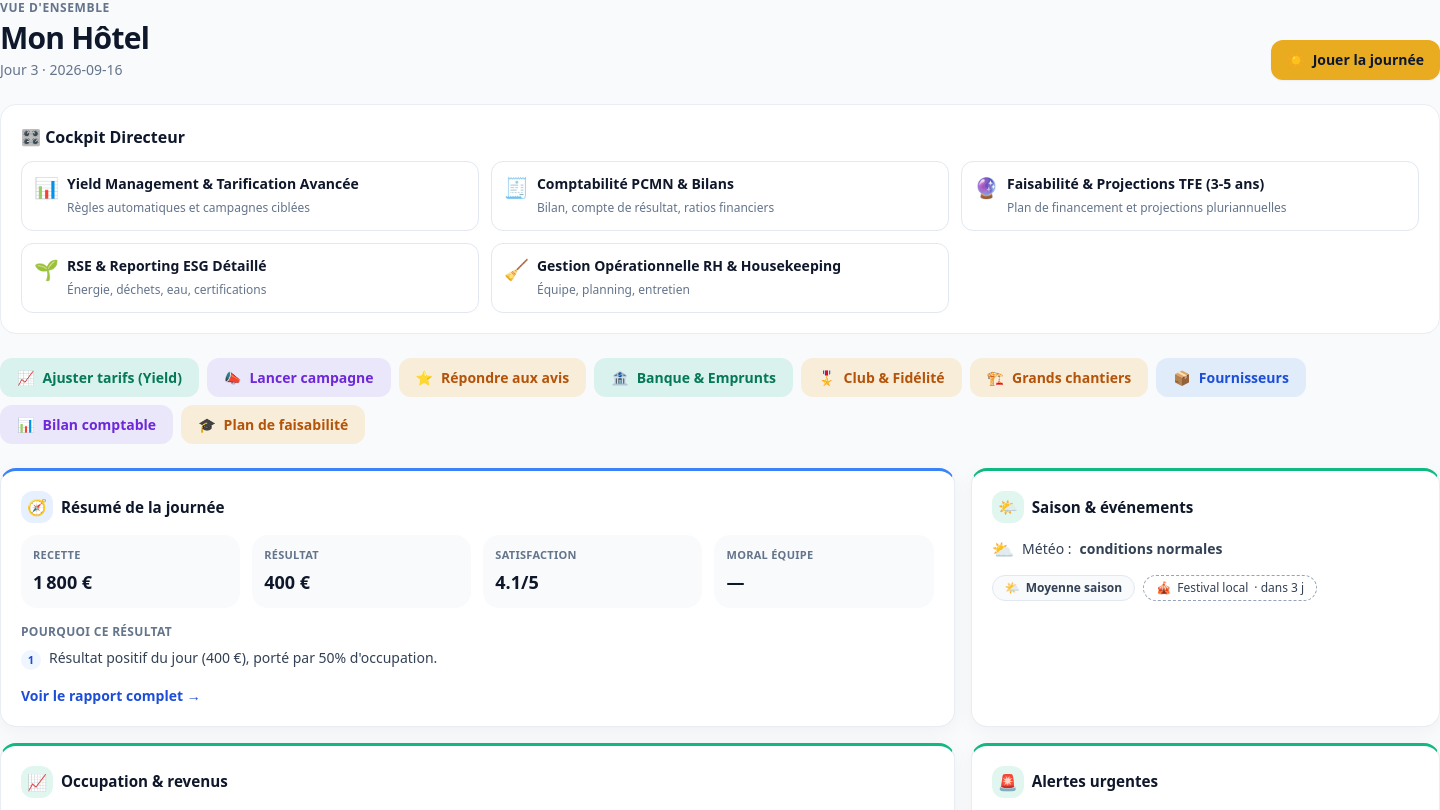
Test case: Dashboard / accounting desk › opens the desk from there
Click the button with test id "quick-accounting" at {"x": 87, "y": 424}, box [0,405,173,444]
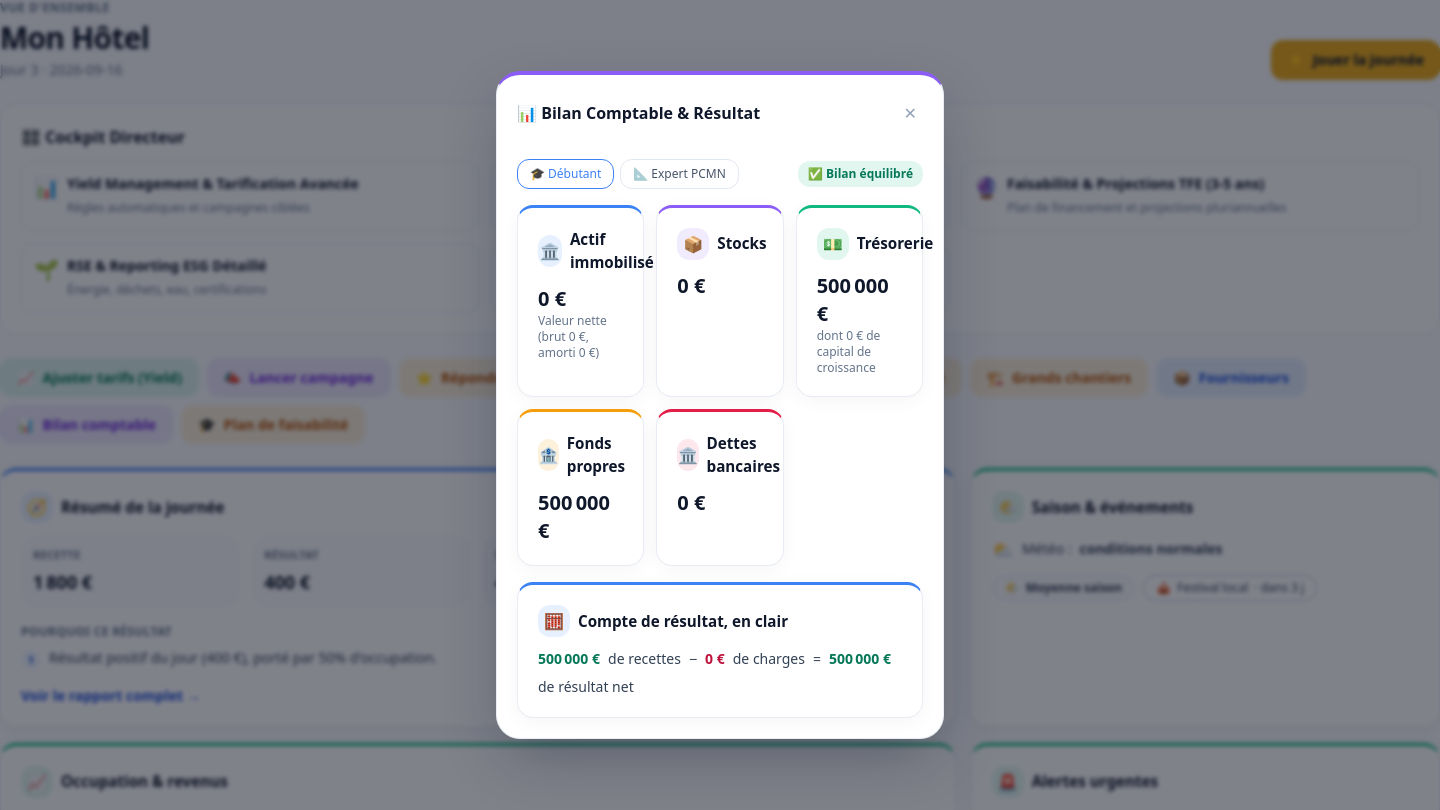
Check: the dialog "Bilan Comptable" is shown
Check: the element with test id "accounting-panel" is shown, box [517,159,923,718]
